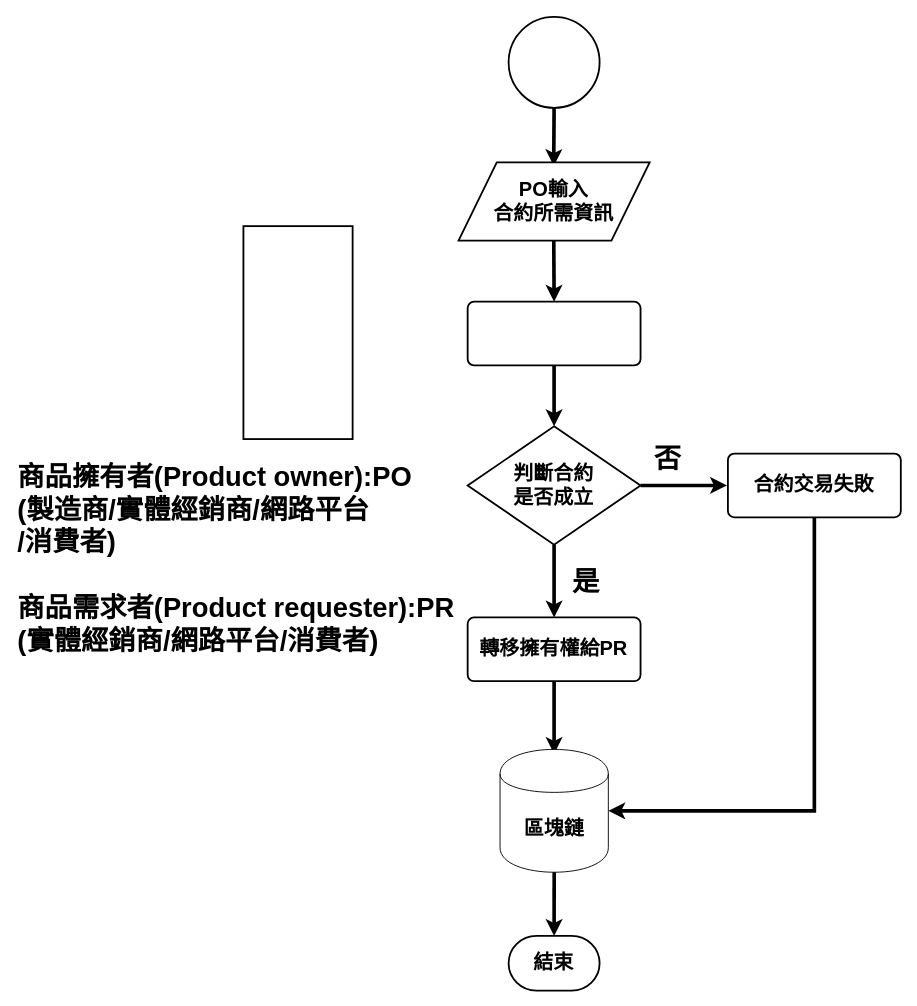
The diagram is 917 pixels wide and 1006 high, and some of its shapes have lost their labels. Here are the shapes that lost their labels. From the top down, the box of each, then its label:
(507, 15, 600, 108): 開始
(242, 225, 353, 440): 商 品 轉 移
(466, 300, 641, 366): PO重置智慧合約
